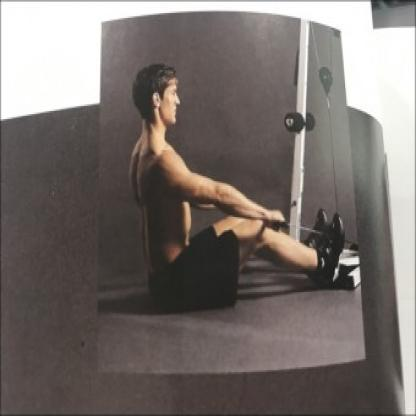Seated Cable Rows: (84, 0, 416, 359)
